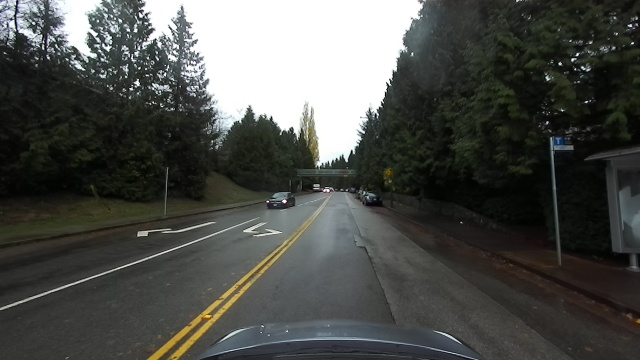car: (263, 189, 297, 209), (360, 192, 383, 205), (312, 183, 321, 191), (323, 186, 330, 194), (349, 187, 356, 193)
